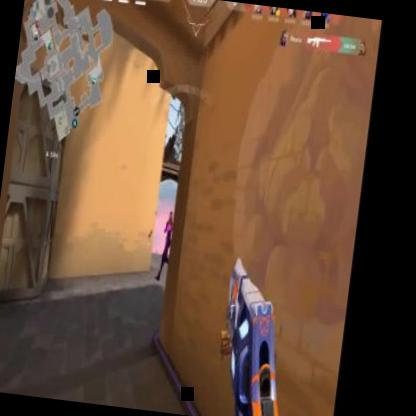enemy: (154, 210, 178, 282)
enemy_head: (167, 210, 173, 222)
